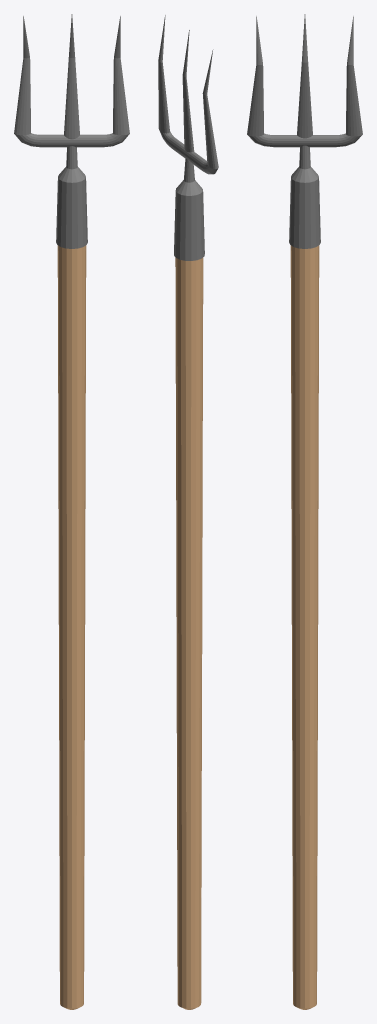
The model's file is PitchforkPractice.fbx.
The picture shows the model from 3 angles, left to right: view 1: azimuth 90°, elevation 25°; view 2: azimuth 210°, elevation 25°; view 3: azimuth 270°, elevation 25°; orthographic projection.
Parts seen in each view (by area): view 1: Handle, Fork; view 2: Handle, Fork; view 3: Handle, Fork.
Part boxes in pixels (x1=…): Handle: x1=56, y1=14, x2=87, y2=1009; Fork: x1=14, y1=16, x2=129, y2=147; Handle: x1=174, y1=30, x2=204, y2=1009; Fork: x1=158, y1=15, x2=218, y2=174; Handle: x1=289, y1=14, x2=320, y2=1009; Fork: x1=247, y1=16, x2=362, y2=147.
Size of the model in its own units: 9.38 by 323 by 34.18.
